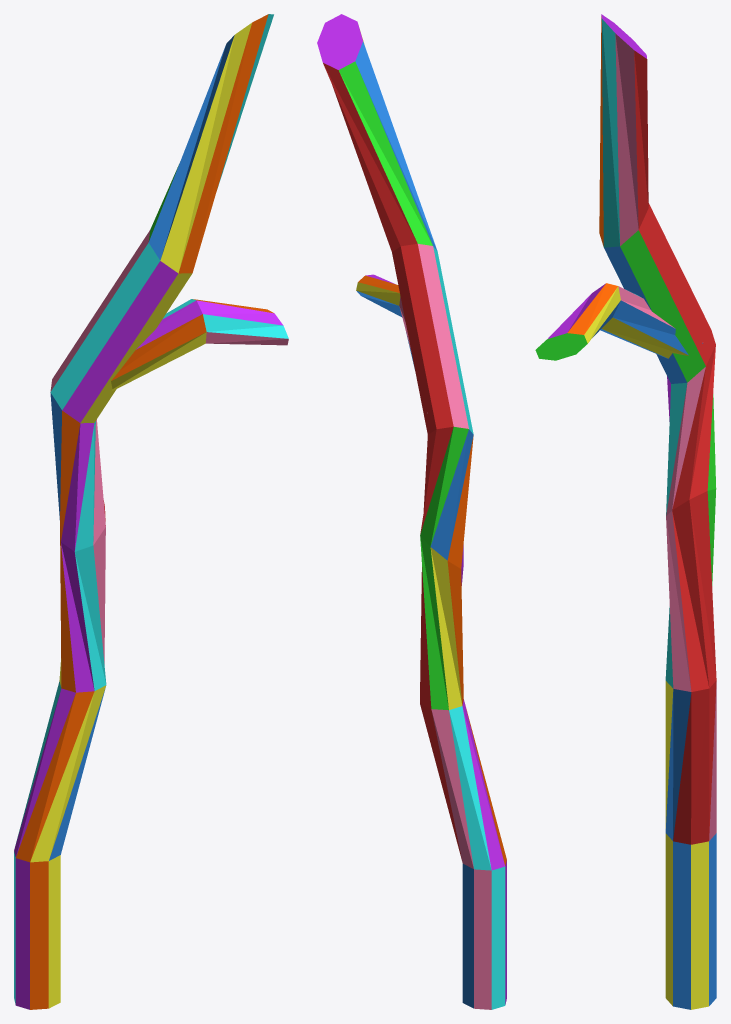
Rendered from staff.obj.
The picture shows the model from 3 angles, left to right: view 1: azimuth 30°, elevation 25°; view 2: azimuth 150°, elevation 25°; view 3: azimuth 270°, elevation 25°; orthographic projection. The views are drawn at different scales.
Parts seen in each view (by area): view 1: model; view 2: model; view 3: model.
Boxes of the visible parts, left/top/right/bottom form: model: left=14, top=14, right=288, bottom=1009; model: left=317, top=14, right=506, bottom=1009; model: left=535, top=14, right=716, bottom=1009.
Bounding box in the file's own units: 0.4207 × 1.73 × 0.2626.
